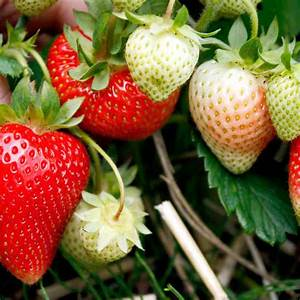Fresa: (46, 19, 187, 145), (1, 114, 97, 287)
